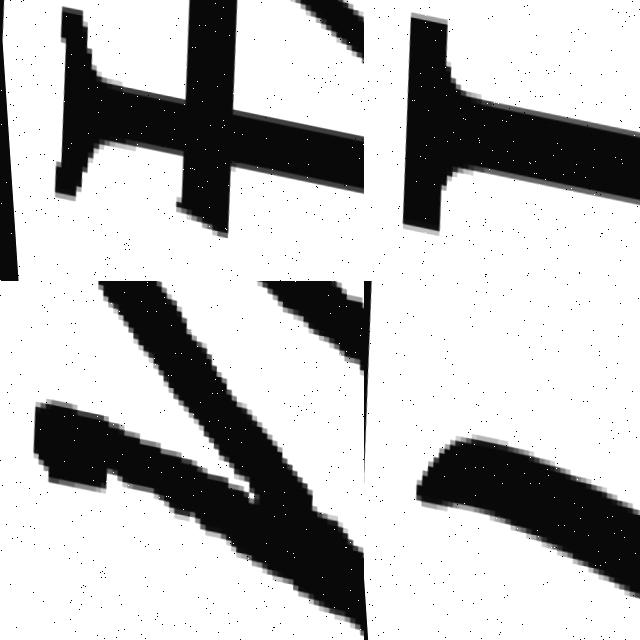1: (391, 407, 640, 640)
A: (0, 281, 364, 640)
N: (364, 0, 640, 281)
